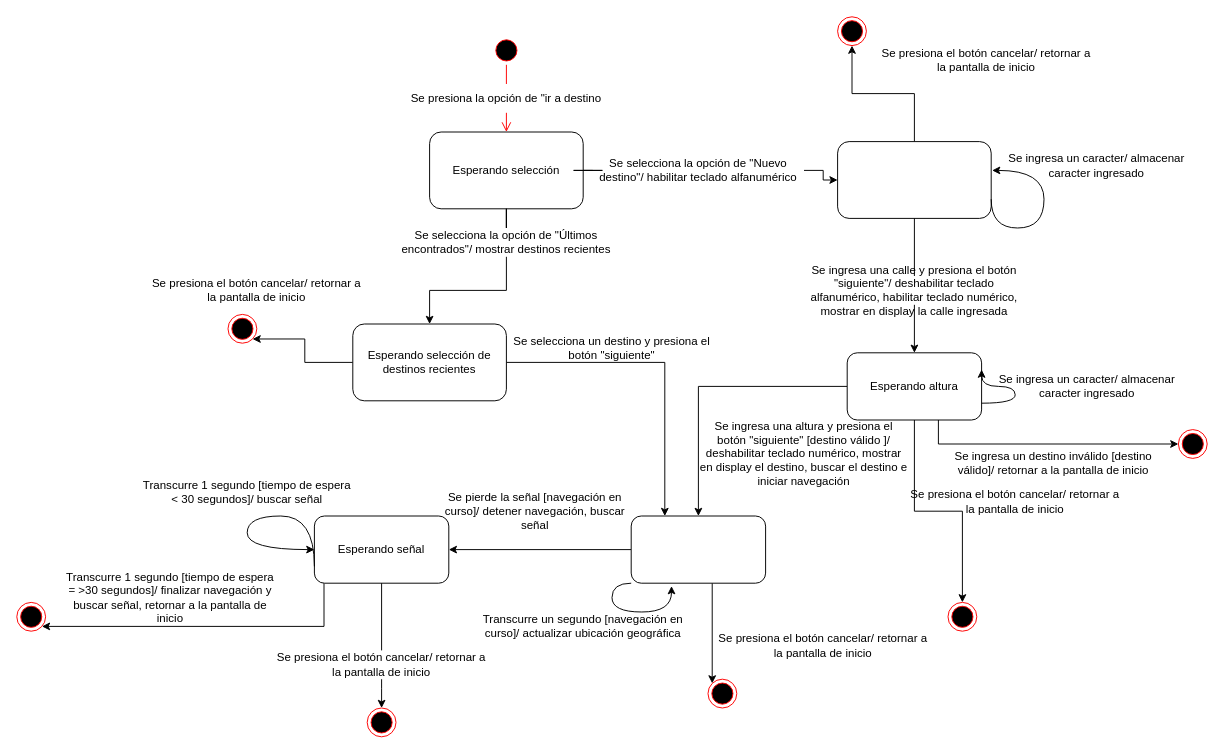
Image size: 1224x754. Some labels were removed from this diagram. Here are the shapes that lost their labels. From the top down, the box of each, then its label:
(837, 141, 991, 218): Esperando calle
(630, 515, 766, 583): Mostrando mapa
